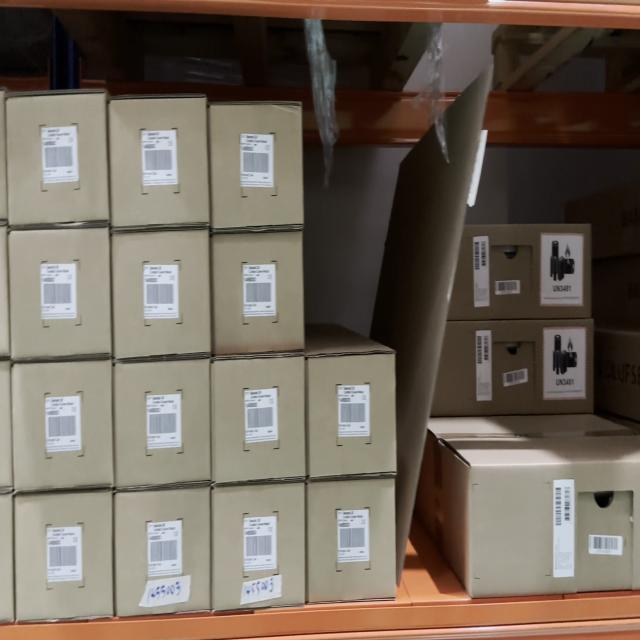box: (9, 94, 105, 223), (13, 228, 109, 356), (112, 97, 206, 227), (15, 362, 110, 490), (16, 494, 112, 620), (113, 235, 211, 354), (117, 361, 209, 486), (213, 358, 304, 483), (116, 494, 211, 612), (213, 106, 303, 229), (212, 490, 305, 604), (307, 480, 394, 601), (213, 235, 303, 349), (309, 357, 396, 472)
